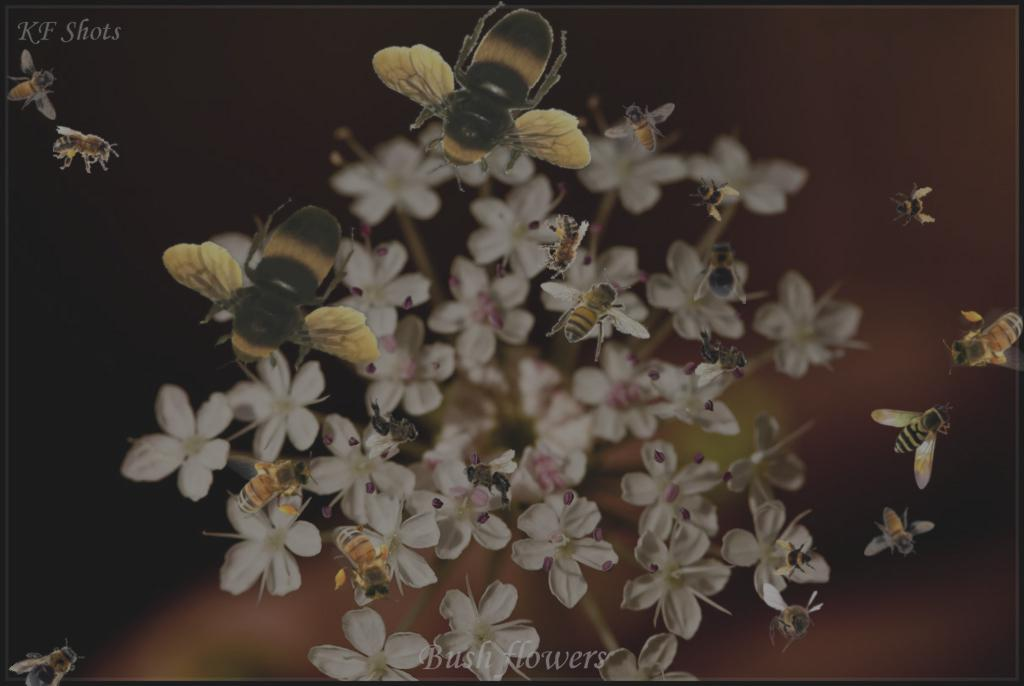Bee: (160, 197, 380, 388), (371, 1, 591, 192), (540, 268, 651, 362), (871, 402, 953, 490), (225, 451, 318, 519), (331, 515, 399, 608), (943, 307, 1024, 375), (7, 626, 93, 686), (532, 210, 590, 285), (763, 583, 824, 653), (460, 446, 519, 512), (683, 164, 745, 226), (51, 125, 121, 176), (604, 102, 675, 152), (864, 507, 935, 557), (7, 49, 57, 120), (694, 236, 746, 304), (695, 325, 748, 387), (366, 397, 419, 459), (887, 179, 939, 231), (773, 538, 817, 582)
